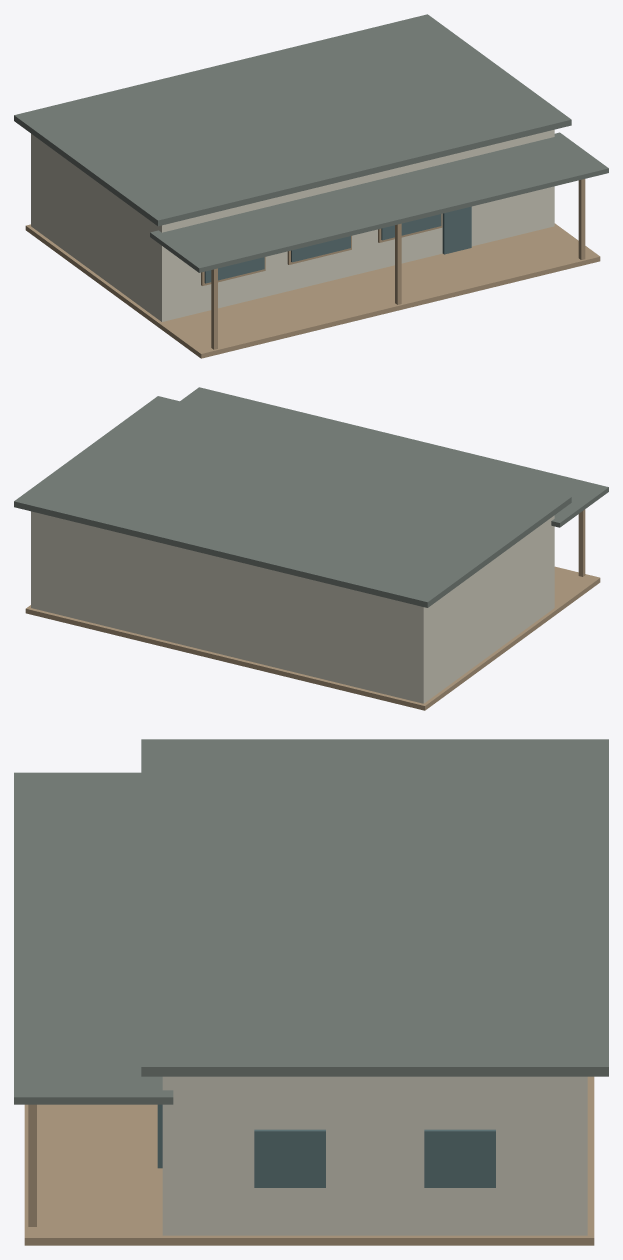
The model's file is clubhouse_03.glb.
3 renders of one model, top to bottom at view 1: azimuth 30°, elevation 25°; view 2: azimuth 150°, elevation 25°; view 3: azimuth 270°, elevation 25°, orthographic. The views are drawn at different scales.
Parts seen in each view (by area): view 1: Clubhouse_03; view 2: Clubhouse_03; view 3: Clubhouse_03.
Part boxes in pixels (left/top/right/bottom): Clubhouse_03: left=14, top=14, right=608, bottom=358; Clubhouse_03: left=14, top=387, right=608, bottom=710; Clubhouse_03: left=14, top=739, right=608, bottom=1245.
Size of the model in its own units: 15.11 by 3.96 by 11.59.
